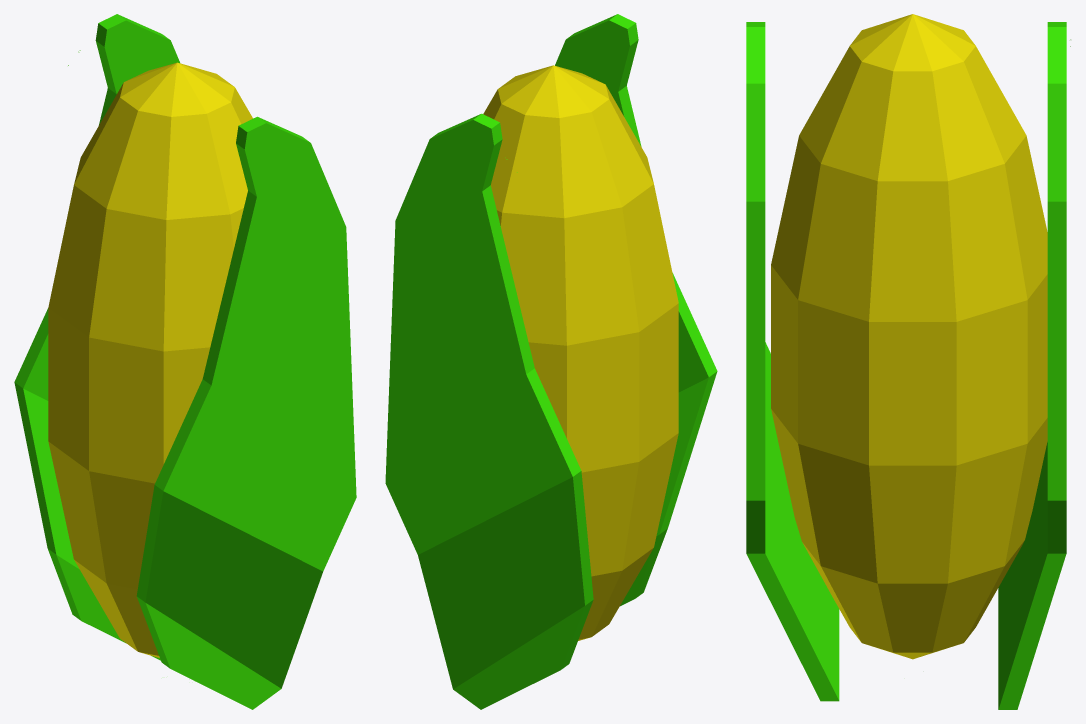
File: maisgeel.fbx
3 views of the same model, side by side, from view 1: azimuth 30°, elevation 25°; view 2: azimuth 150°, elevation 25°; view 3: azimuth 270°, elevation 25° (orthographic). The views are drawn at different scales.
Parts seen in each view (by area): view 1: Plane; view 2: Plane; view 3: Plane.
Boxes of the visible parts, x1,y1,x2,y2 form: Plane: (14, 14, 356, 709); Plane: (385, 14, 717, 709); Plane: (746, 14, 1070, 709).
Bounding box in the file's own units: 20.26 × 56.54 × 24.44.
